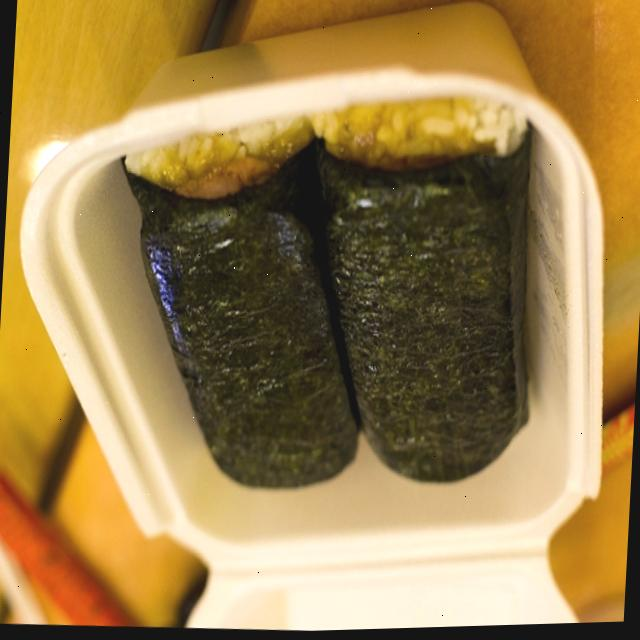寿司卷物: (18, 8, 623, 615)
